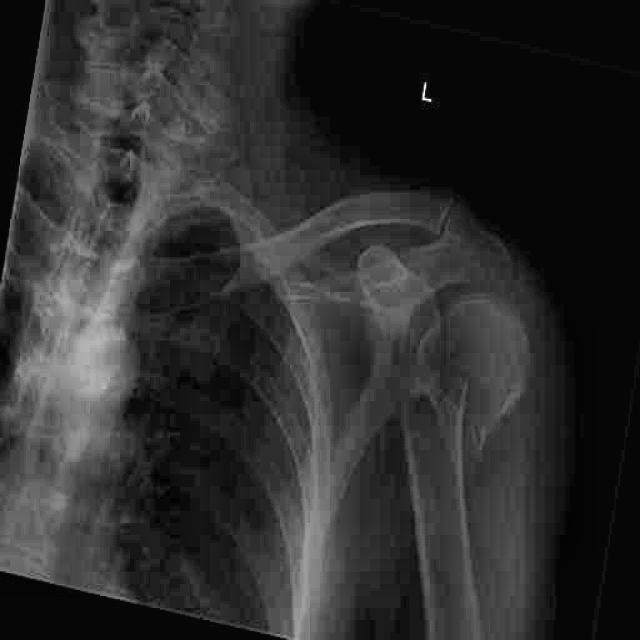shoulder fracture: (418, 328, 499, 459)
